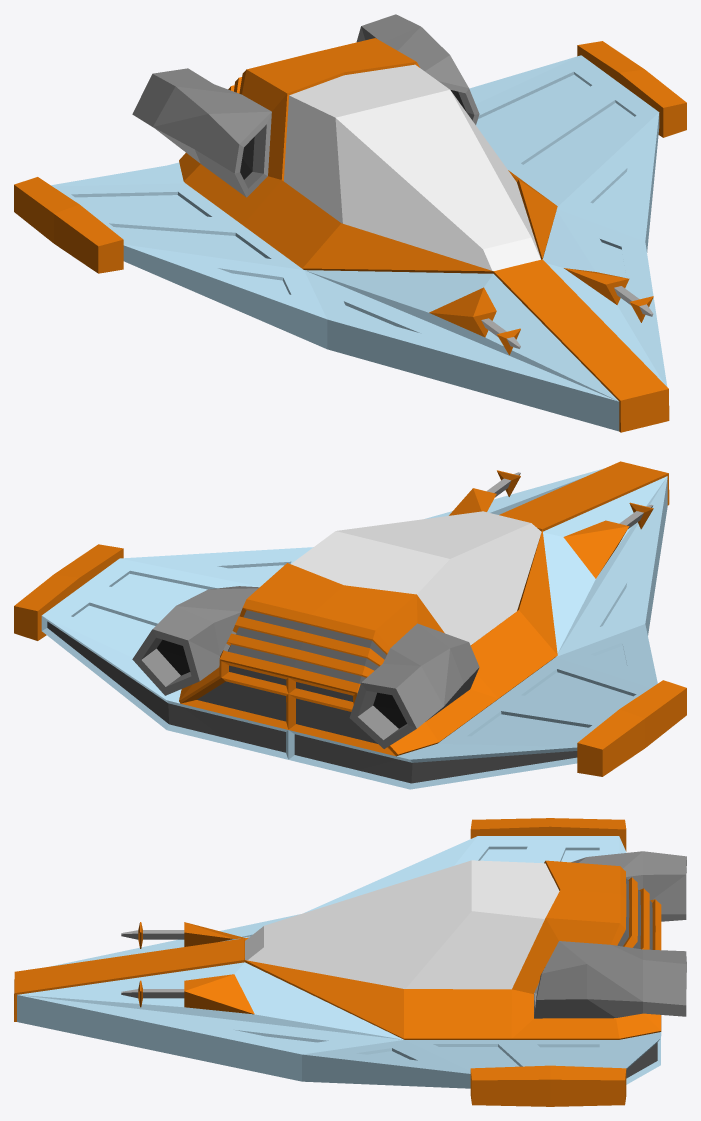
The model's file is spaceship_player_01.fbx.
3 views of the same model, one above another, from view 1: azimuth 30°, elevation 25°; view 2: azimuth 150°, elevation 25°; view 3: azimuth 270°, elevation 25° (orthographic). The views are drawn at different scales.
Visible parts, largest first — view 1: 1; view 2: 1; view 3: 1.
Boxes of the visible parts, x1,y1,x2,y2 form: 1: (14, 14, 686, 432); 1: (14, 461, 686, 789); 1: (14, 818, 686, 1106).
Size of the model in its own units: 1222 by 305 by 1328.
Materials: 1 (1 with a texture image).
